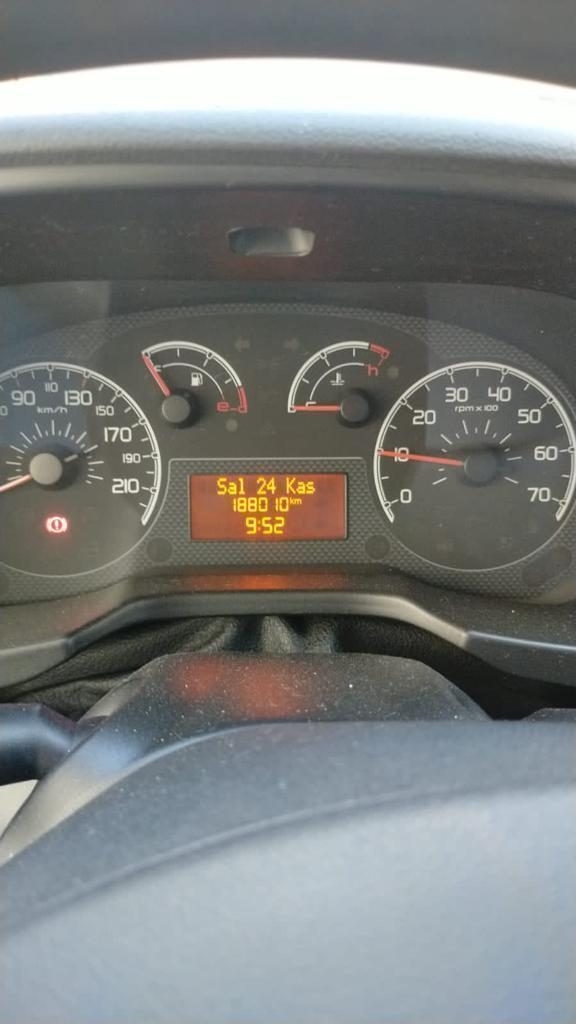0: (258, 496, 268, 512), (279, 496, 288, 511)
1: (232, 497, 236, 512), (275, 497, 278, 512)
2: (273, 516, 284, 534), (256, 476, 266, 494)
4: (266, 476, 276, 494)
5: (261, 516, 273, 534)
8: (247, 496, 257, 512), (237, 497, 246, 512)
9: (245, 516, 256, 534)
X: (215, 477, 227, 495), (285, 476, 296, 494), (237, 477, 245, 495), (305, 480, 315, 494), (227, 481, 236, 495), (296, 481, 305, 494), (294, 498, 302, 504), (257, 519, 261, 531), (289, 496, 294, 504)
odometer: (187, 471, 349, 543)
